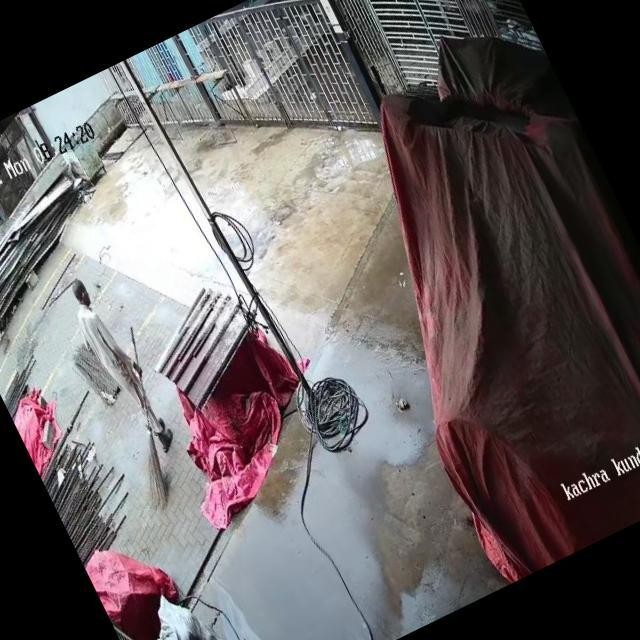person: (58, 261, 187, 469)
